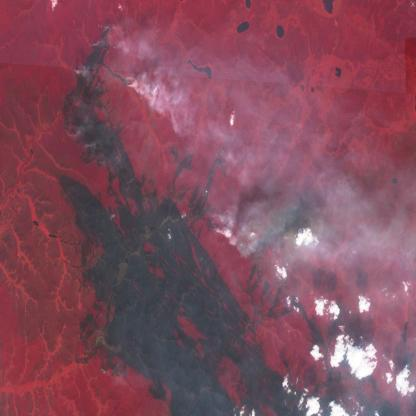fire: (268, 197, 308, 252), (90, 19, 120, 54), (212, 142, 234, 183), (115, 68, 139, 102), (162, 137, 184, 168), (202, 210, 222, 240), (70, 59, 90, 85)
